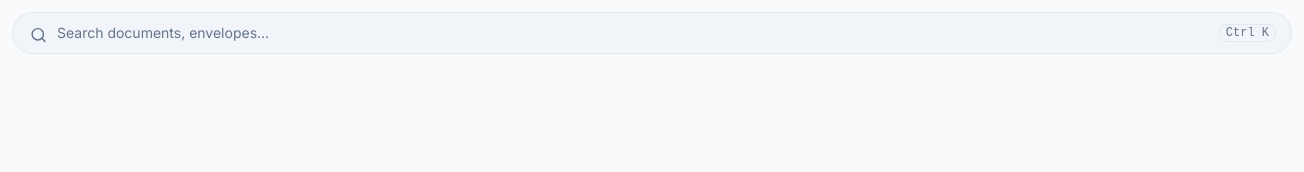
it: GlobalSearch › asks for more characters before searching
The image size is (1304, 172).
Type "l" into the dropdown. click: (652, 33)
box: [12,12,1292,54]
Wait 300 ms
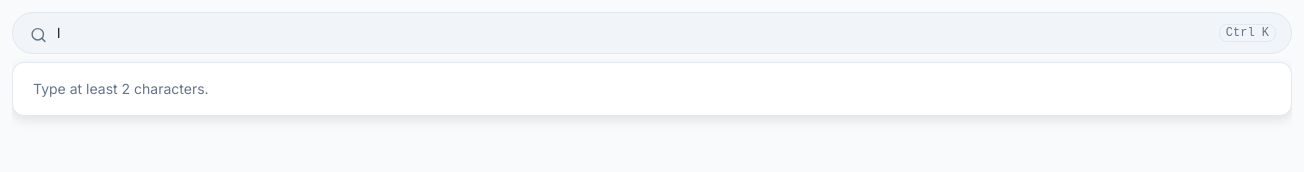
expect the text "Type at least 2 characters." is shown: met, box [33,80,209,97]
